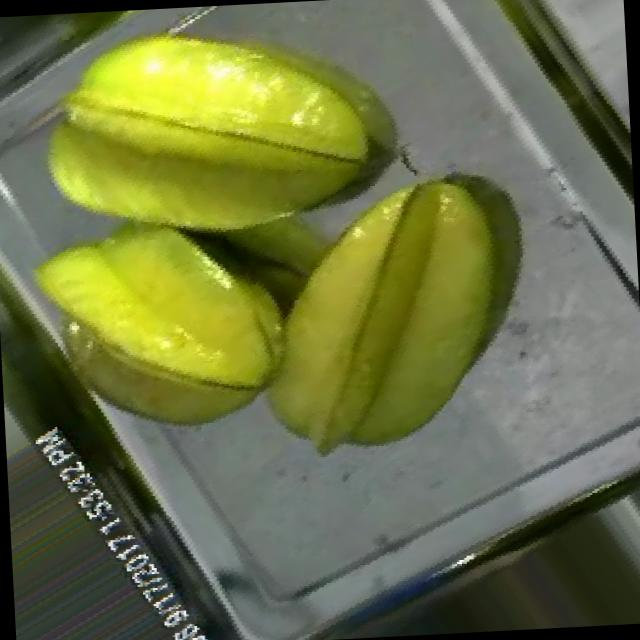fruit: (1, 0, 421, 340), (195, 136, 568, 512), (2, 167, 346, 494)
